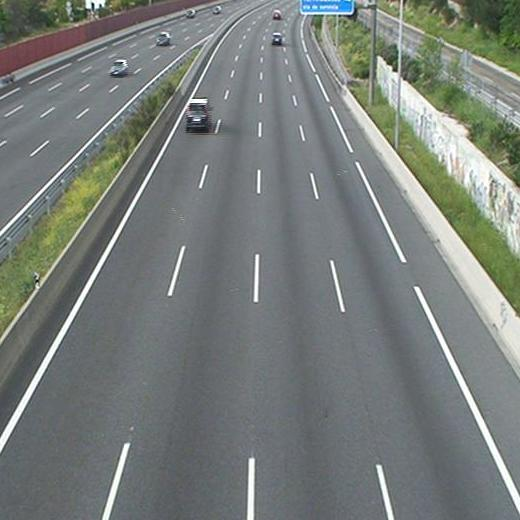car: (186, 99, 210, 128), (271, 33, 282, 44), (272, 11, 281, 20)
